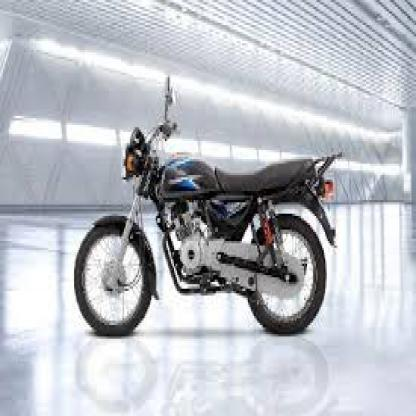Motorcycle: (71, 70, 350, 347)
